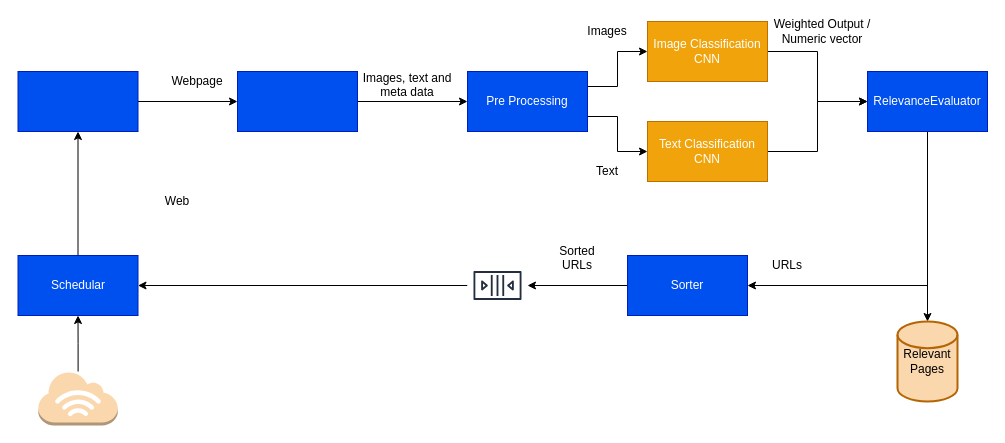
Image size: 1005x443. Some labels were removed from this diagram. Here are the shapes that lost their labels. From the top down, the centre of each, then its label:
At (77,101): "Web Page Donlowder".
At (297,101): "Parser and Extractor".
At (497,285): "Queue".
